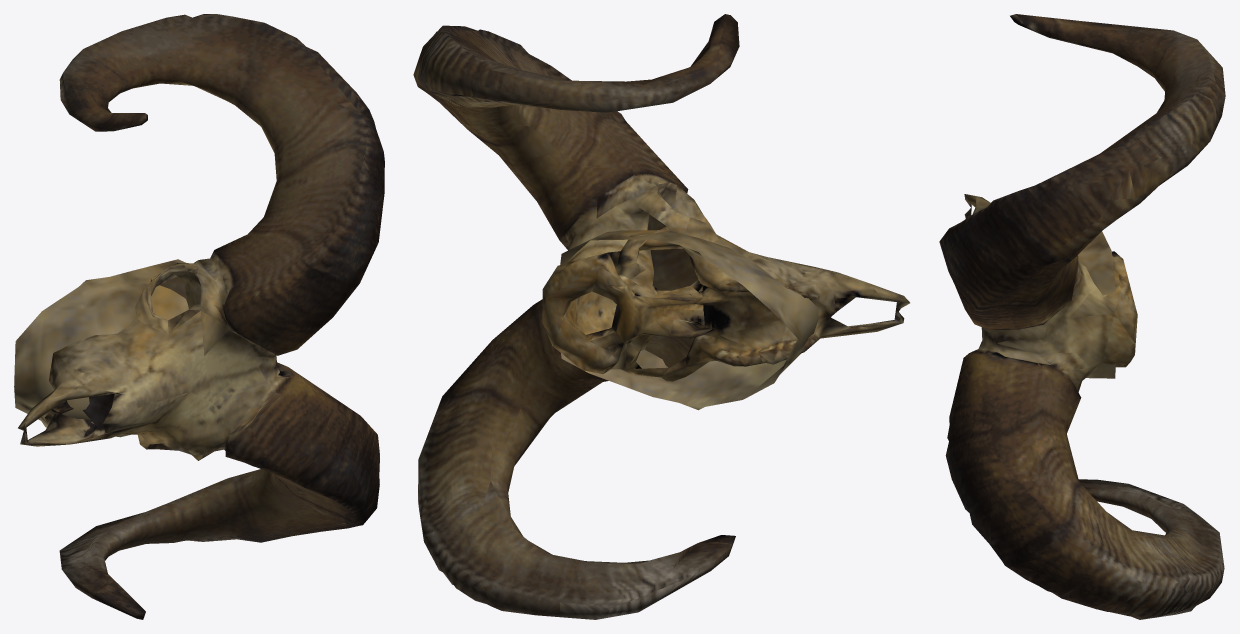
Rendered from F_RamSkullMask.fbx.
3 renders of one model, left to right at view 1: azimuth 30°, elevation 25°; view 2: azimuth 150°, elevation 25°; view 3: azimuth 270°, elevation 25°, orthographic. The views are drawn at different scales.
Parts seen in each view (by area): view 1: 14_bighorn_sheep; view 2: 14_bighorn_sheep; view 3: 14_bighorn_sheep.
Boxes of the visible parts, x1=… form: 14_bighorn_sheep: x1=14, y1=14, x2=384, y2=619; 14_bighorn_sheep: x1=413, y1=14, x2=909, y2=619; 14_bighorn_sheep: x1=939, y1=14, x2=1225, y2=619.
Size of the model in its own units: 0.2834 by 0.3533 by 0.1765.
